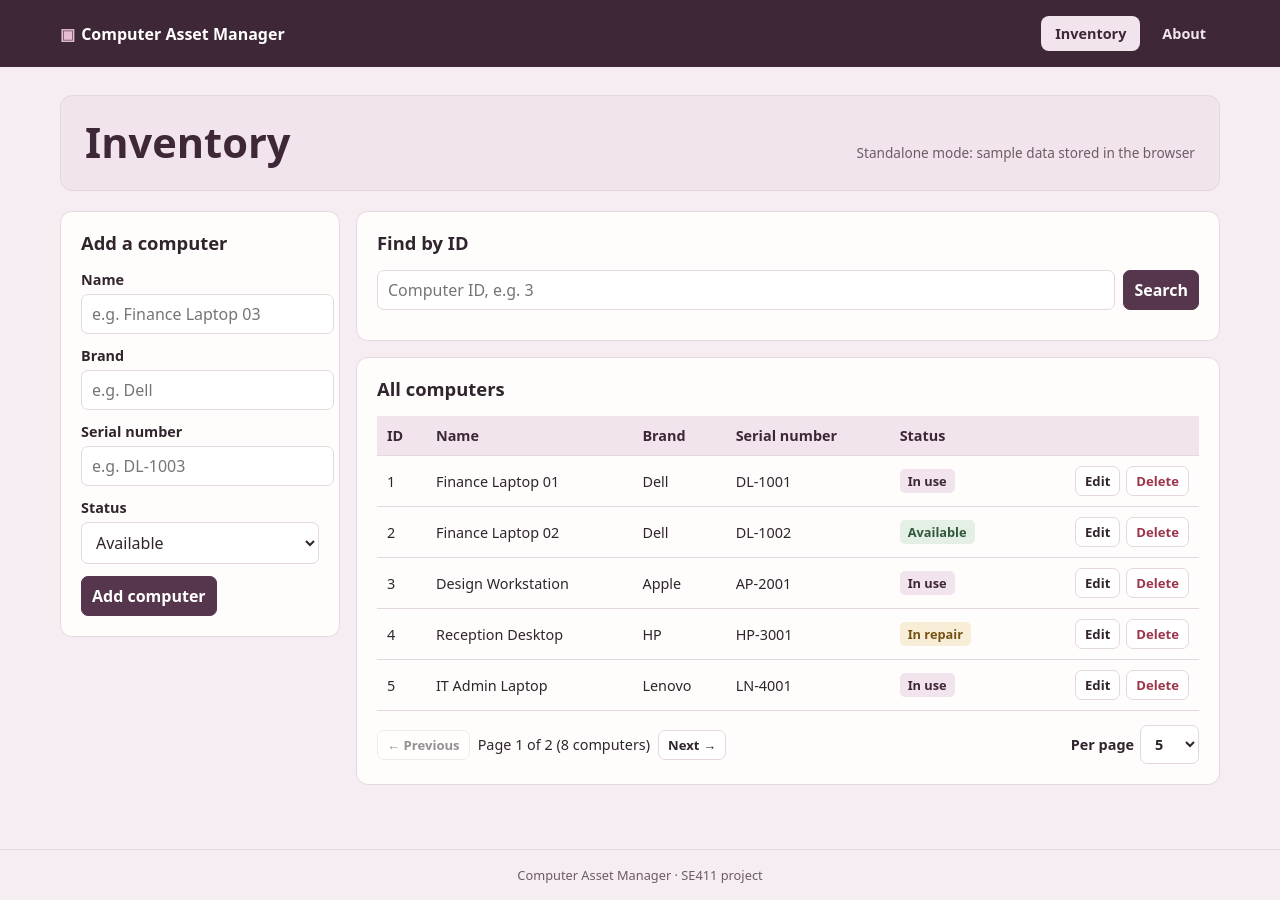
it: navigation menu › opens the About page from the menu and shows names and student IDs
Click the link "About": point(1184, 34) x1=1162 y1=24 x2=1206 y2=43
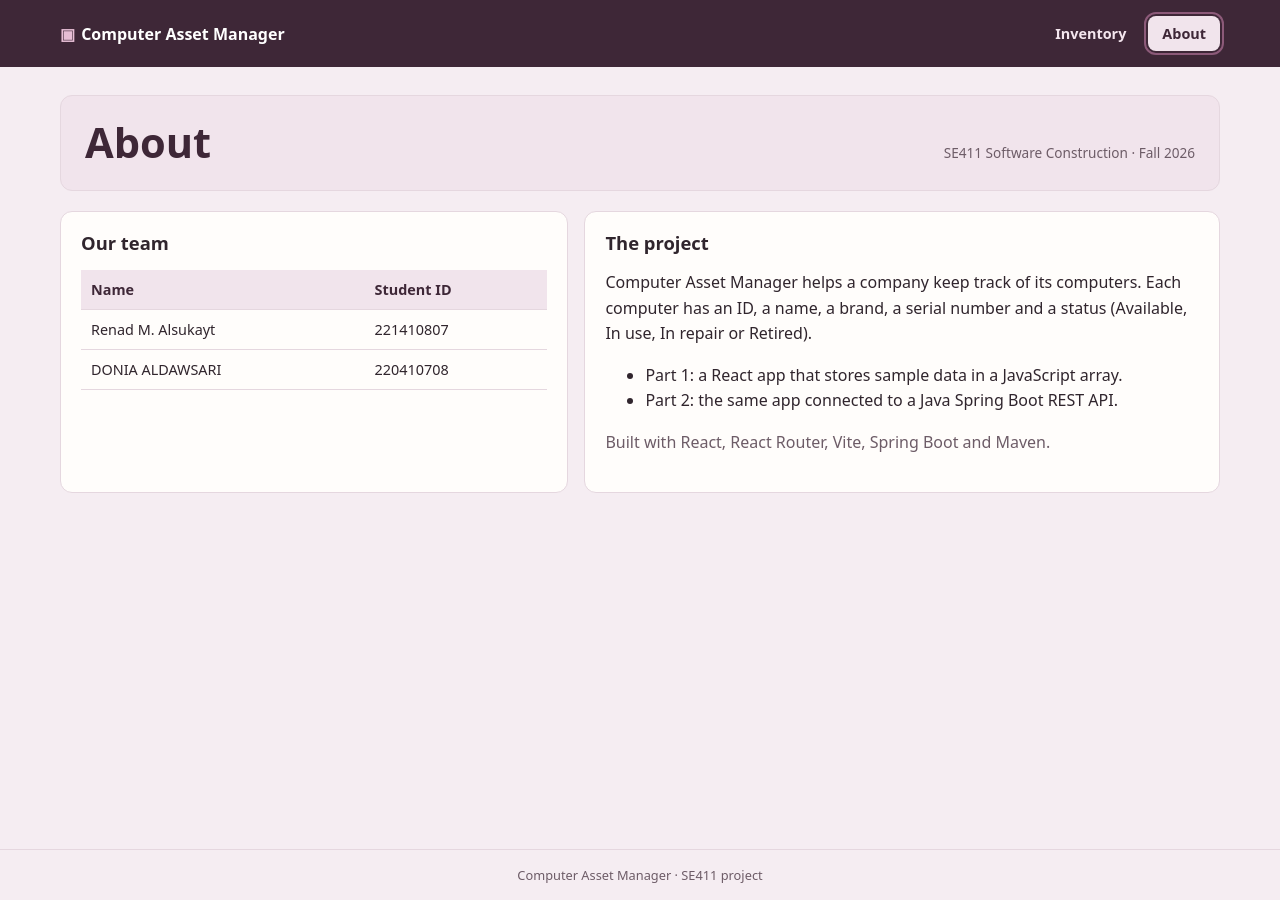
Result: the heading "About" is shown at x1=85 y1=118 x2=211 y2=168
Result: the table named "Team members" shows "Student ID" at x1=375 y1=280 x2=452 y2=299
Result: the table named "Team members" shows "Renad M. Alsukayt" at x1=91 y1=320 x2=215 y2=339
